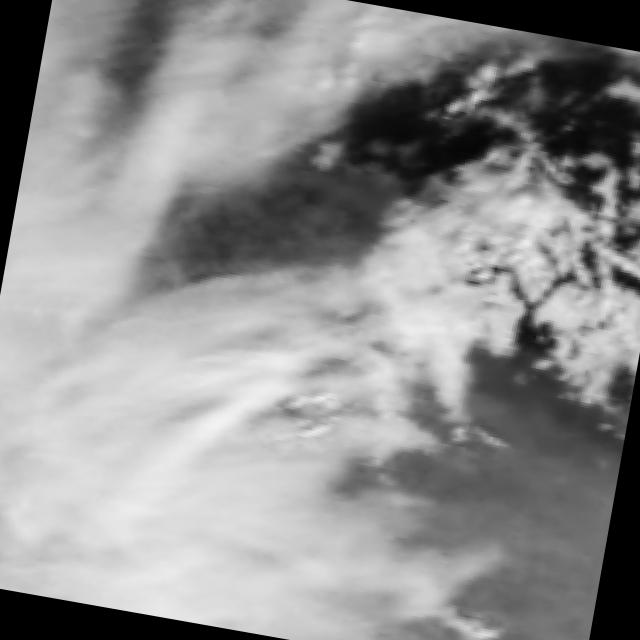CB: (0, 368, 203, 615), (174, 404, 350, 630), (0, 193, 145, 380)
